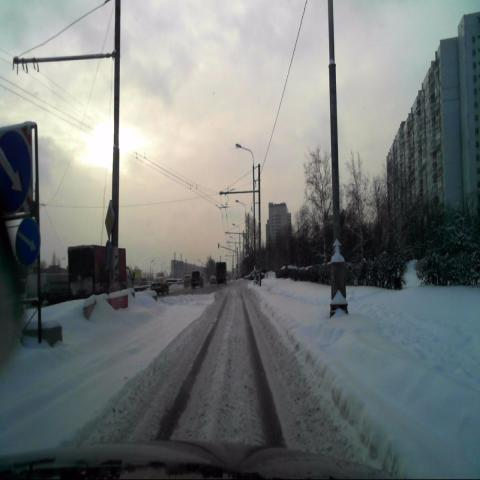4_2_1: (15, 217, 40, 267)
